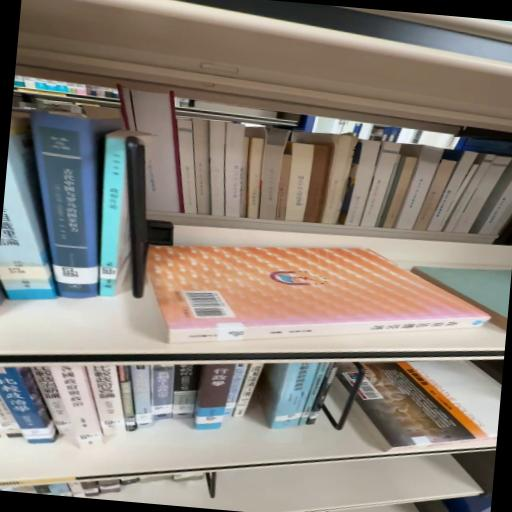flat: (147, 246, 490, 343), (357, 363, 502, 452)
